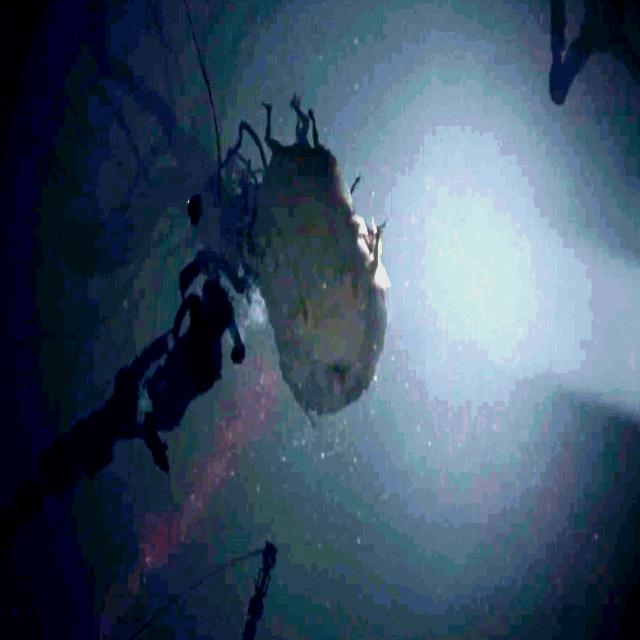blob: (246, 99, 388, 416)
interactible: (185, 188, 202, 229)
mechanism: (0, 288, 244, 570), (547, 0, 640, 110), (231, 541, 278, 640)
